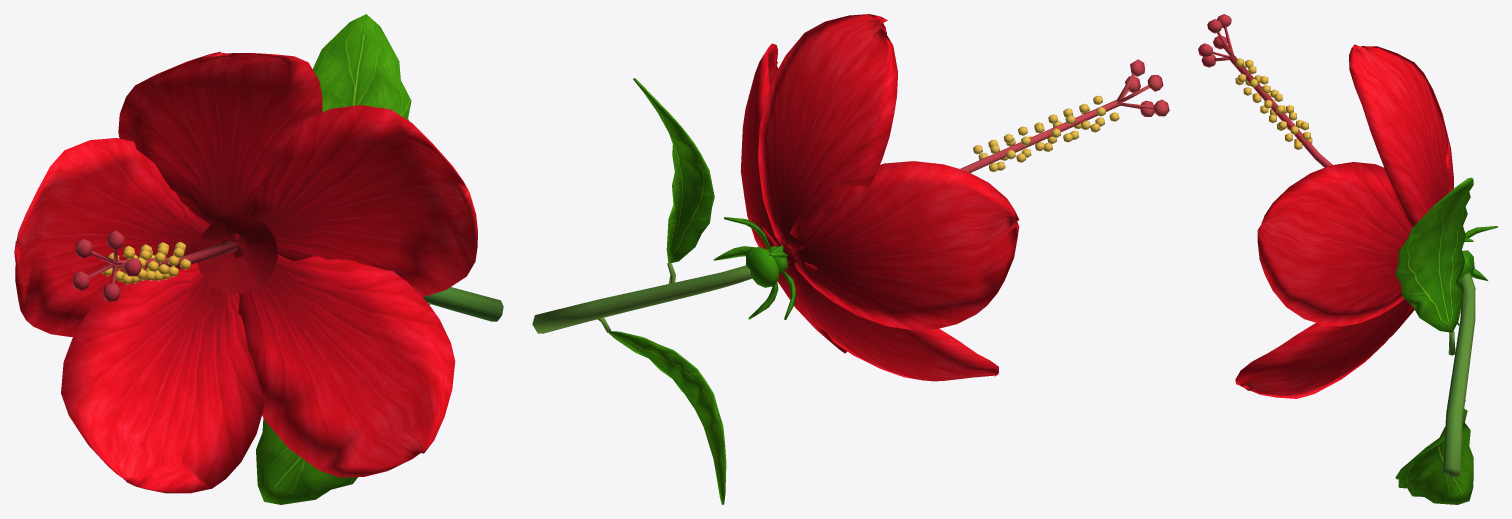
File: NP_Hibiscus_Harvest_LOD1.fbx
3 views of the same model, side by side, from view 1: azimuth 30°, elevation 25°; view 2: azimuth 150°, elevation 25°; view 3: azimuth 270°, elevation 25° (orthographic). The views are drawn at different scales.
Parts seen in each view (by area): view 1: NP_Hibiscus_Harvest; view 2: NP_Hibiscus_Harvest; view 3: NP_Hibiscus_Harvest.
Part boxes in pixels (<box>): NP_Hibiscus_Harvest: <box>14,14,503,504</box>; NP_Hibiscus_Harvest: <box>532,14,1169,504</box>; NP_Hibiscus_Harvest: <box>1198,14,1497,504</box>.
Size of the model in its own units: 45.18 by 39.69 by 26.12.
